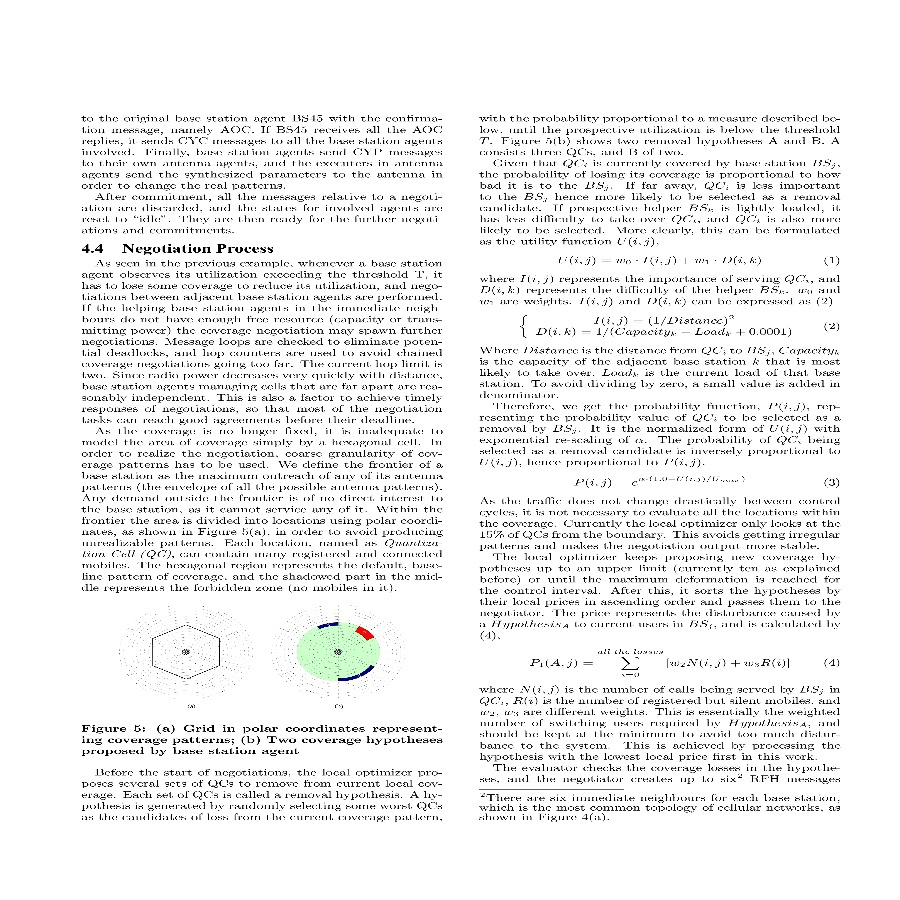eq: (527, 645, 796, 678), (518, 310, 797, 341), (572, 471, 750, 493), (555, 253, 766, 269)
